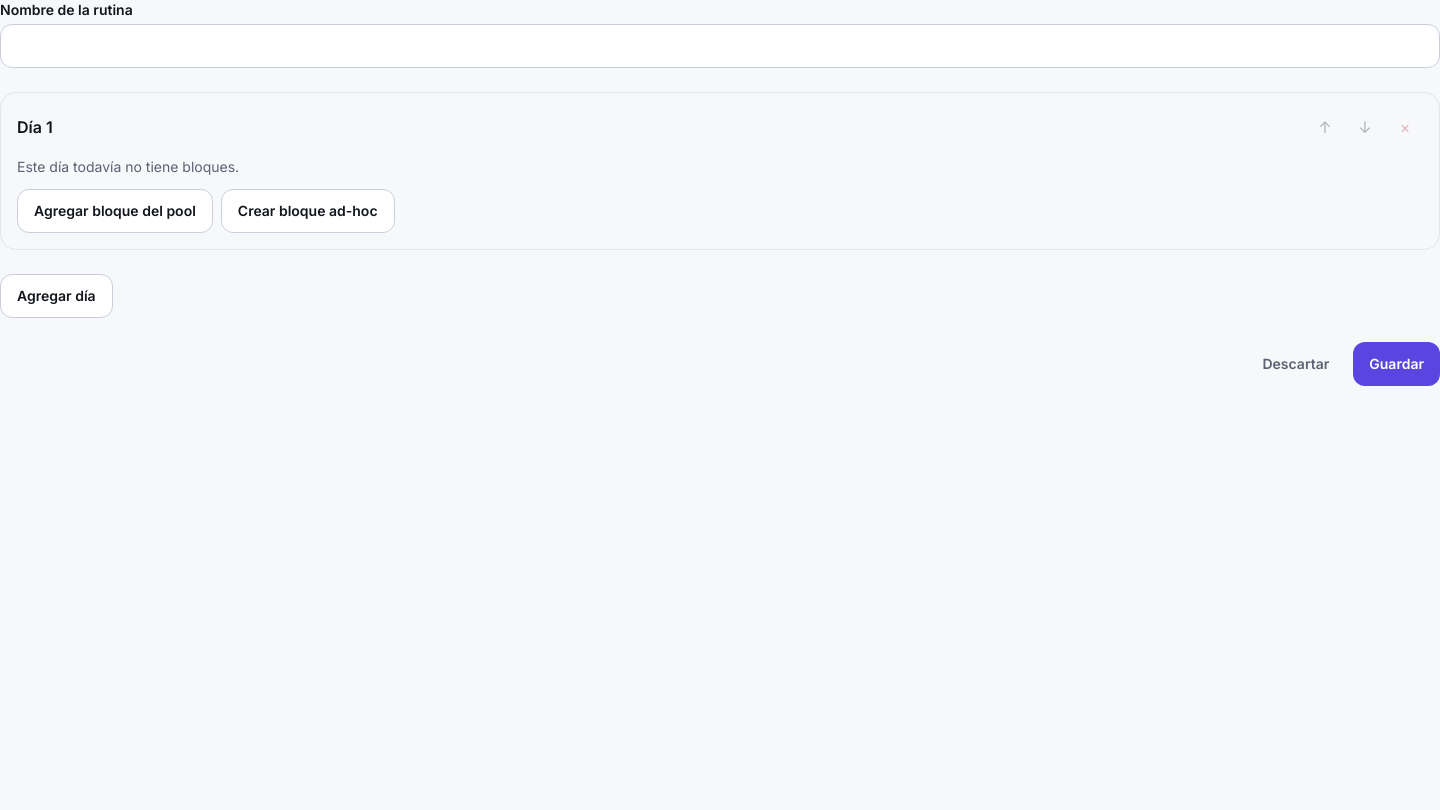
RoutineEditor — rutina nueva › crear un bloque ad-hoc lo agrega al día sin tocar el pool
The image size is (1440, 810).
Click the button "Crear bloque ad-hoc" at point(308, 211), box [221,189,394,233]
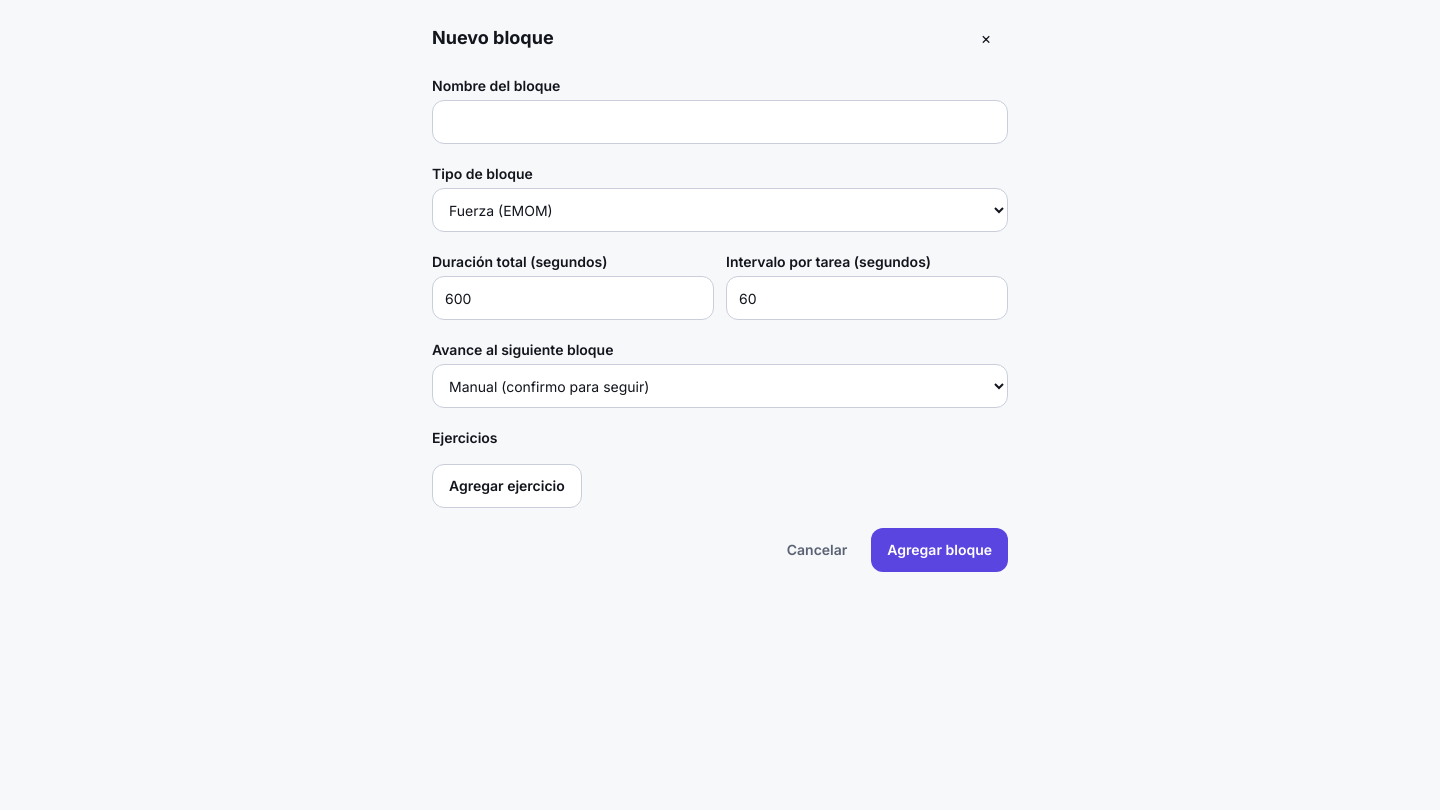
Type "Bloque especial" into the field labelled "Nombre del bloque" at point(720, 122), box [432,100,1008,144]
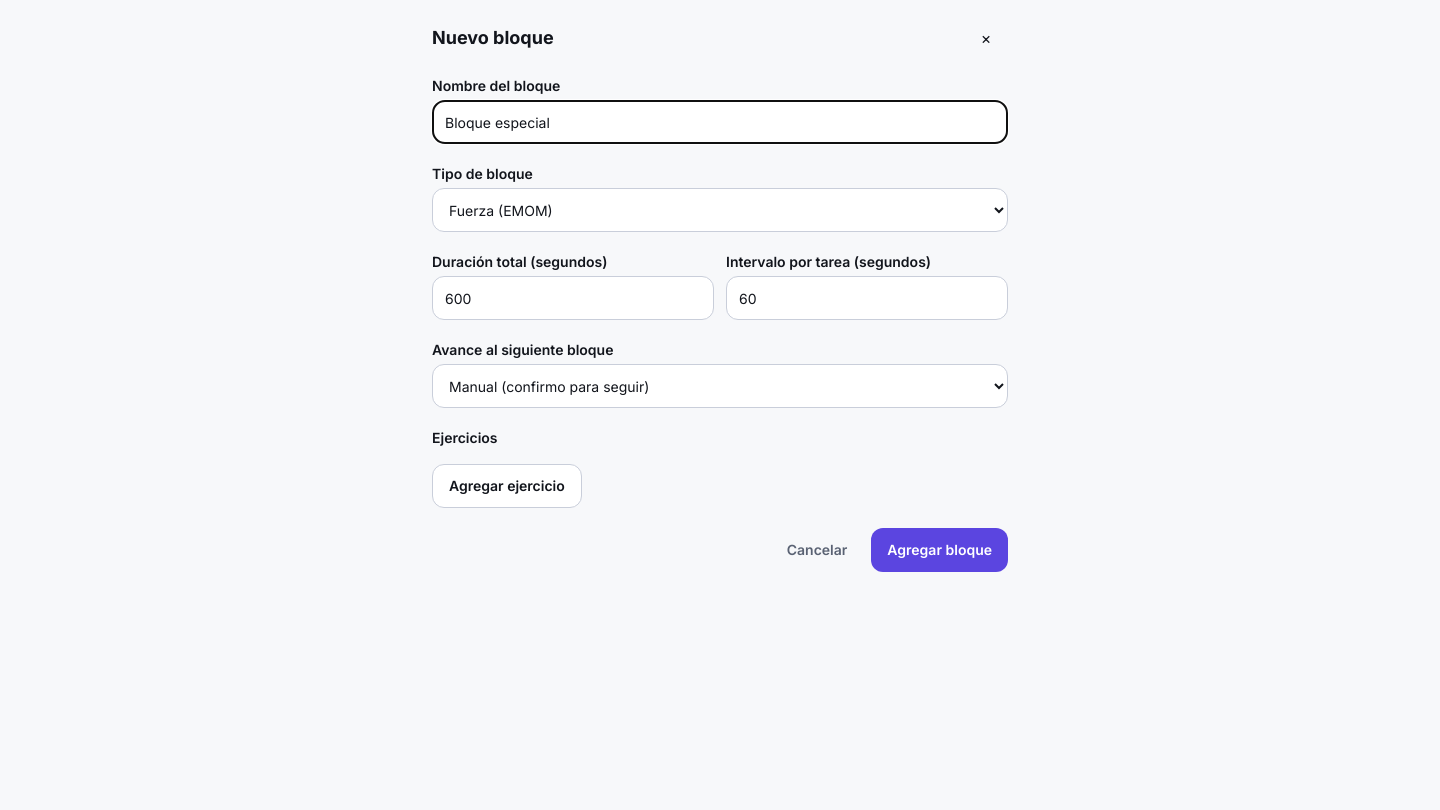
Click the button "Agregar ejercicio" at point(507, 486), box [432,464,582,508]
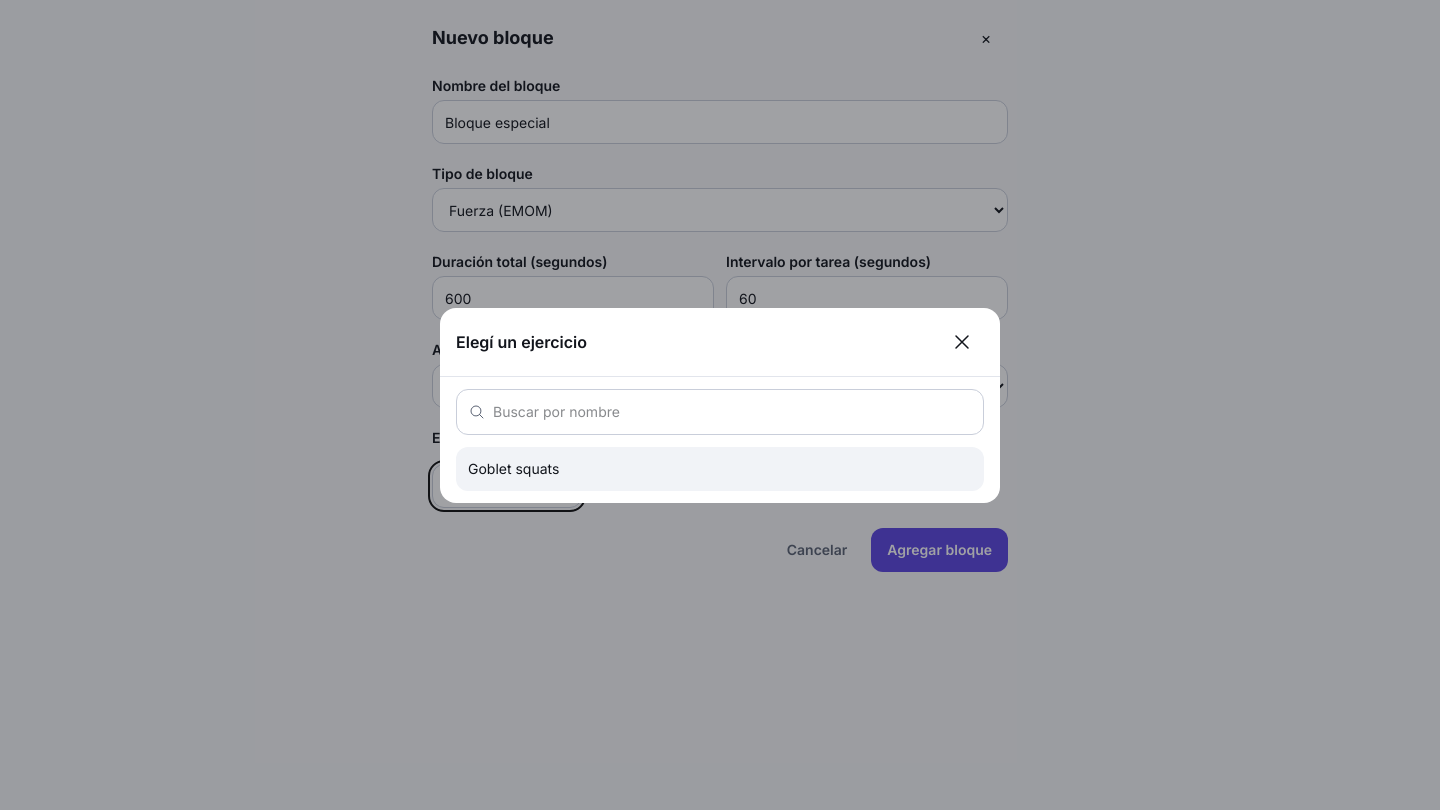
Click the button "Goblet squats" at point(514, 468), box [456,446,984,490]
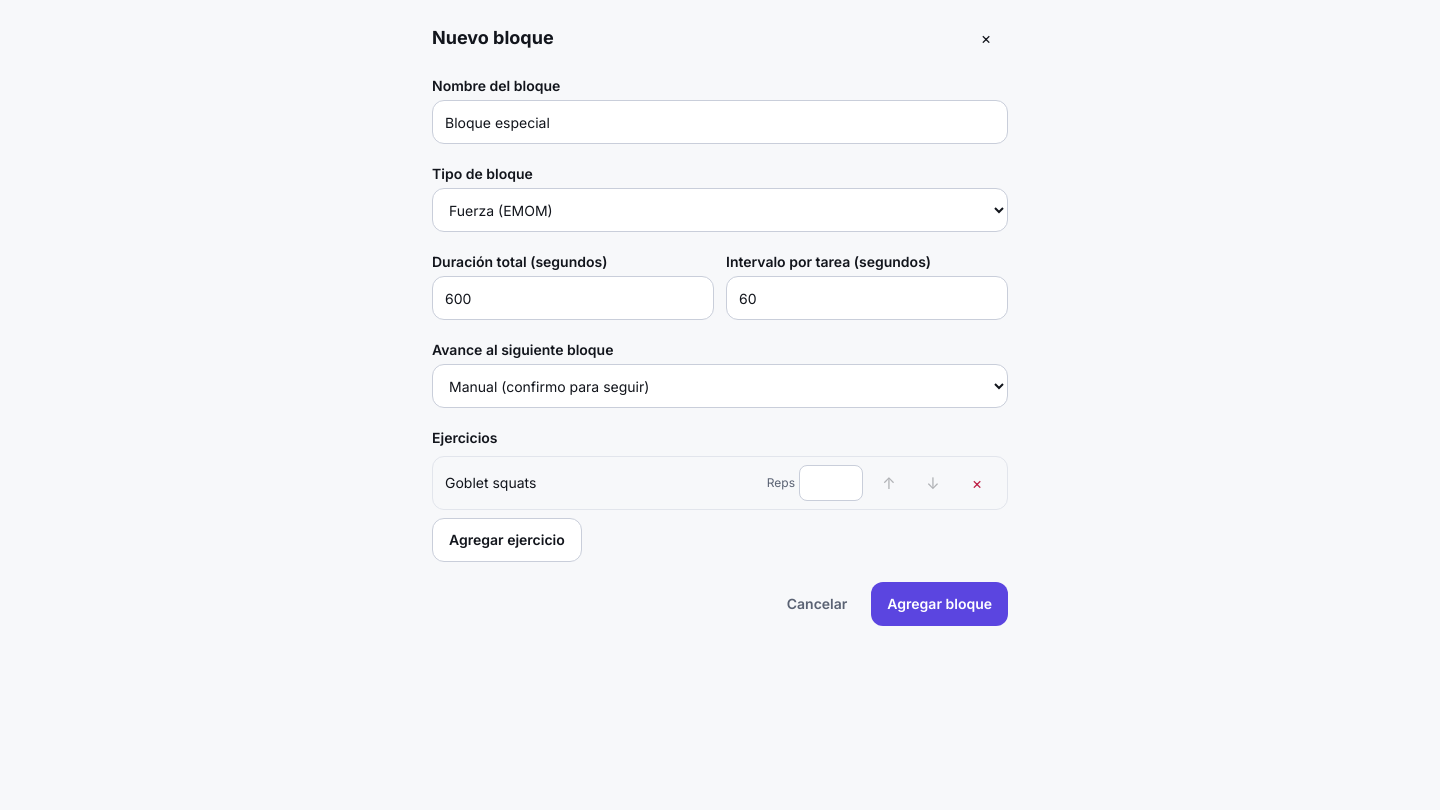
Type "10" into the number field labelled "Reps" at point(831, 483), box [799,465,863,501]
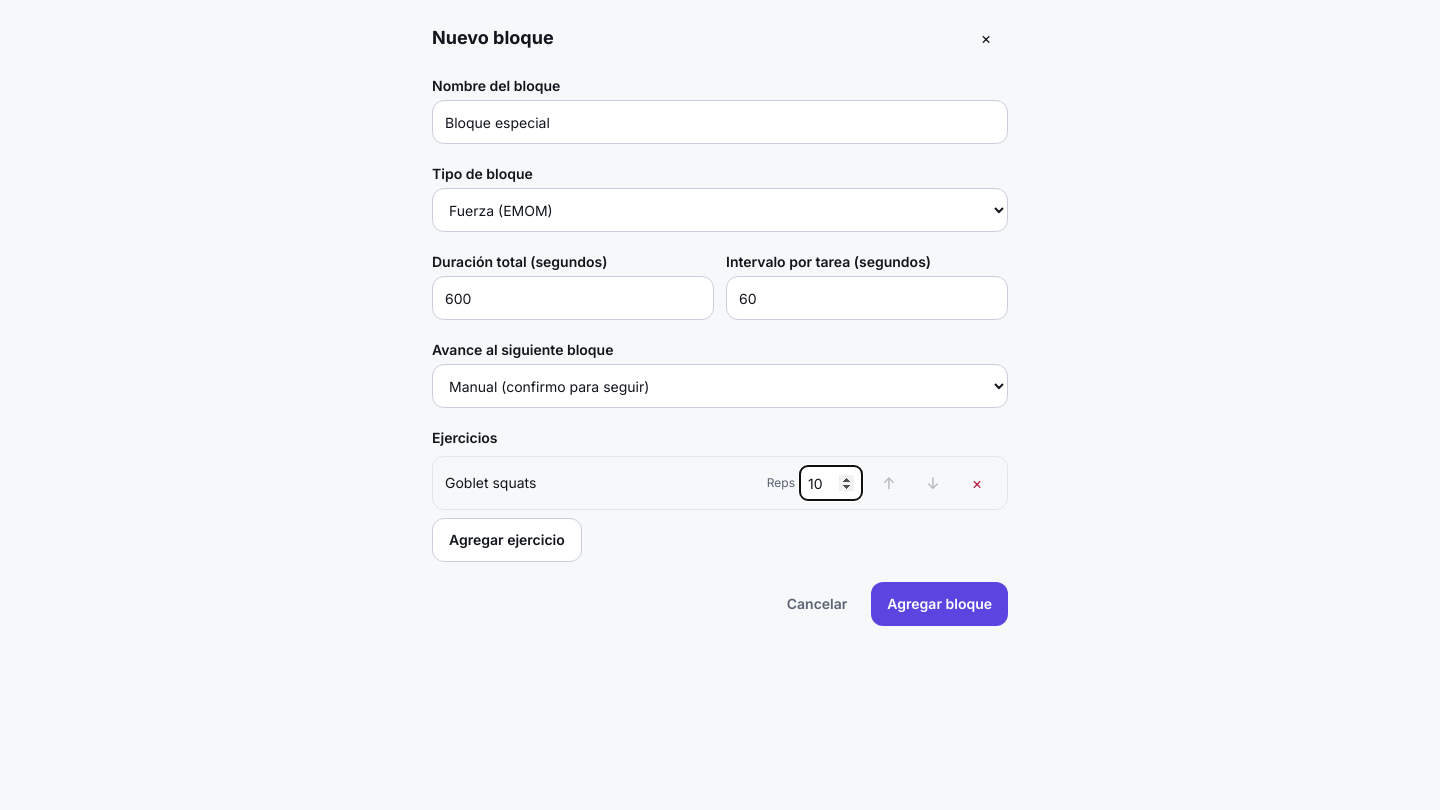
Click the button "Agregar bloque" at point(940, 604), box [871,582,1008,626]
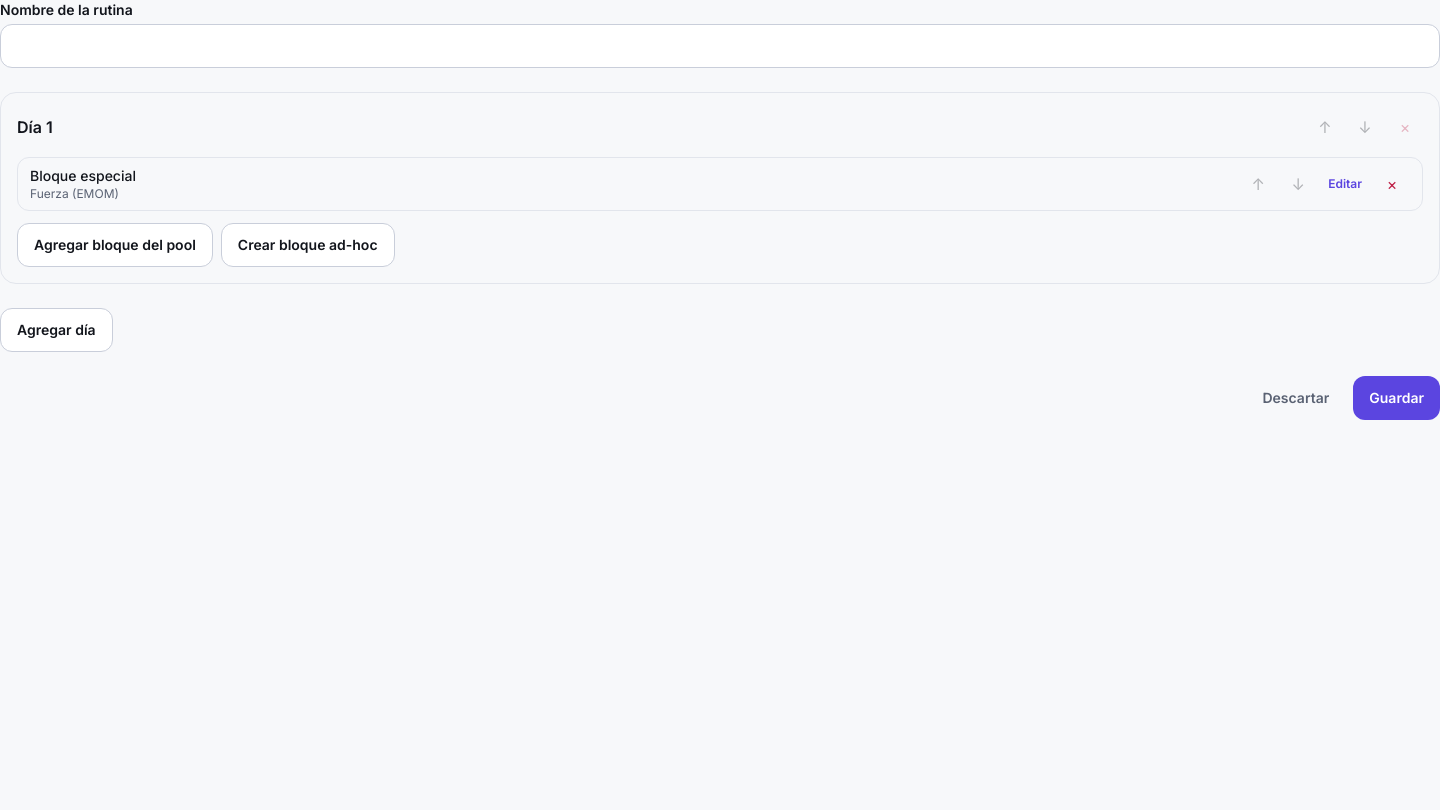
Check: the text "Bloque especial" is shown, box [30,166,136,186]
